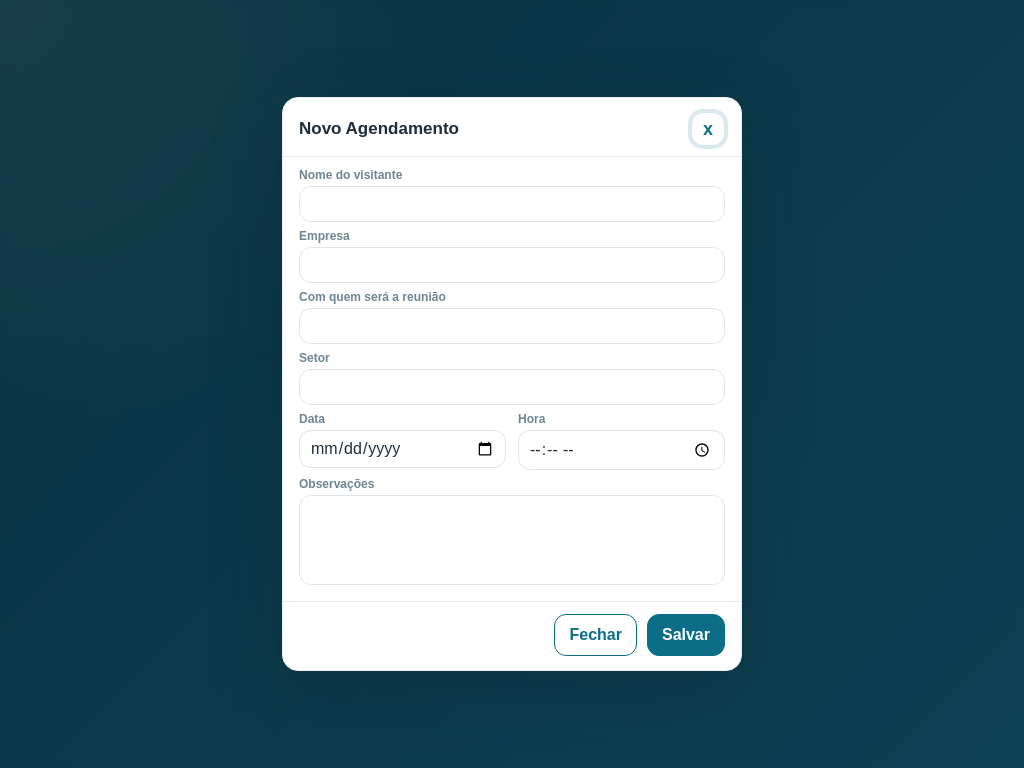
Test: AgendaModal mensagens e validações › mostra alerta consolidado e erros inline para campos obrigatórios, sem toast
Click the button "Salvar". click: (686, 635)
box: 647,614 -> 725,656
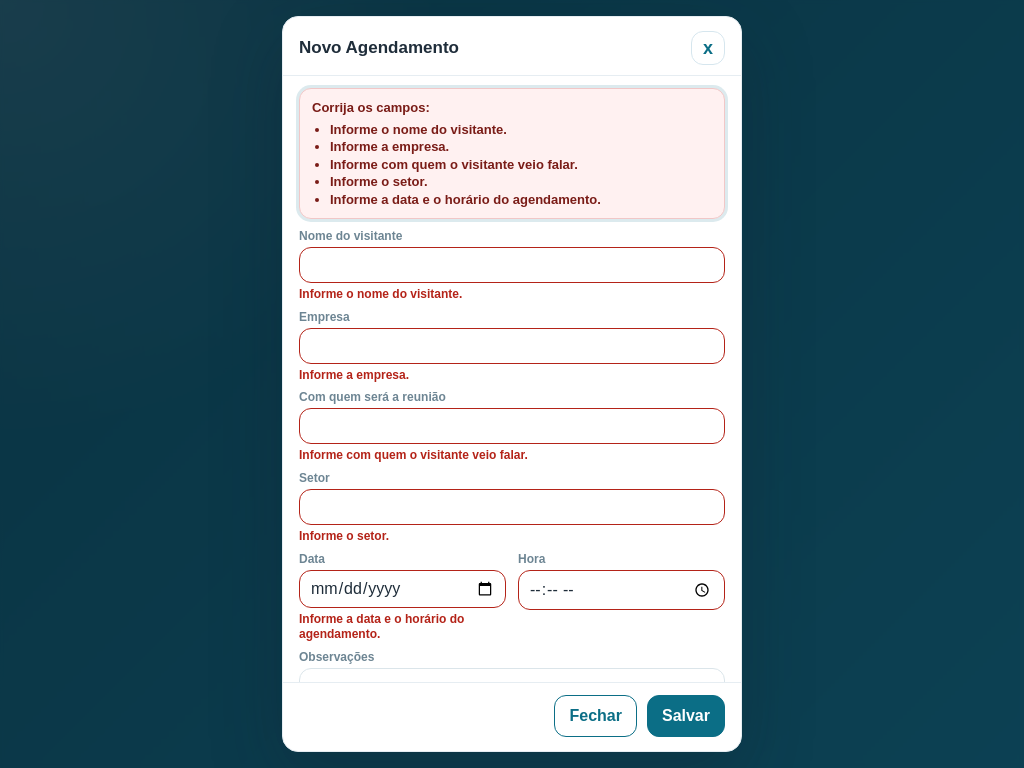
Expected: the text "Corrija os campos:" is shown, 312,100 -> 430,115
Expected: the list items read "Informe o nome do visitante.", "Informe a empresa.", "Informe com quem o visitante veio falar.", "Informe o setor.", "Informe a data e o horário do agendamento.", in this order, 330,122 -> 507,136; 330,139 -> 449,154; 330,157 -> 578,172; 330,174 -> 428,189; 330,192 -> 601,207
Expected: the number of list items "Informe o nome do visitante." is 2, 330,122 -> 507,136; 299,287 -> 462,301
